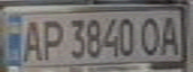0: (118, 15, 139, 57)
3: (63, 16, 87, 60)
4: (103, 15, 121, 58)
8: (84, 15, 106, 60)
A: (18, 15, 45, 63), (157, 12, 181, 56)
O: (139, 14, 163, 56)
P: (36, 15, 66, 61)
